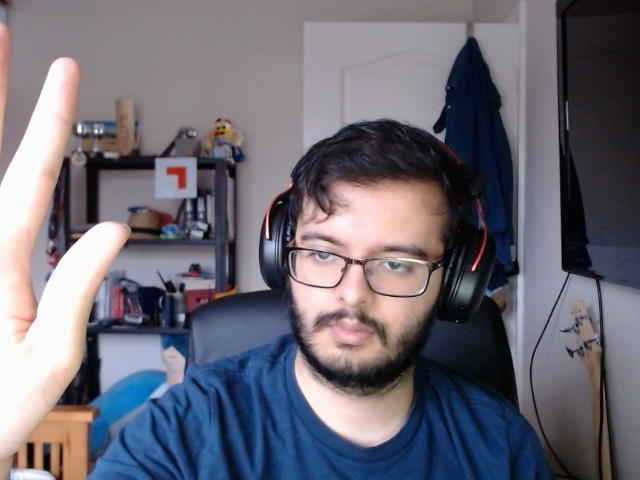Hello: (1, 11, 153, 472)
